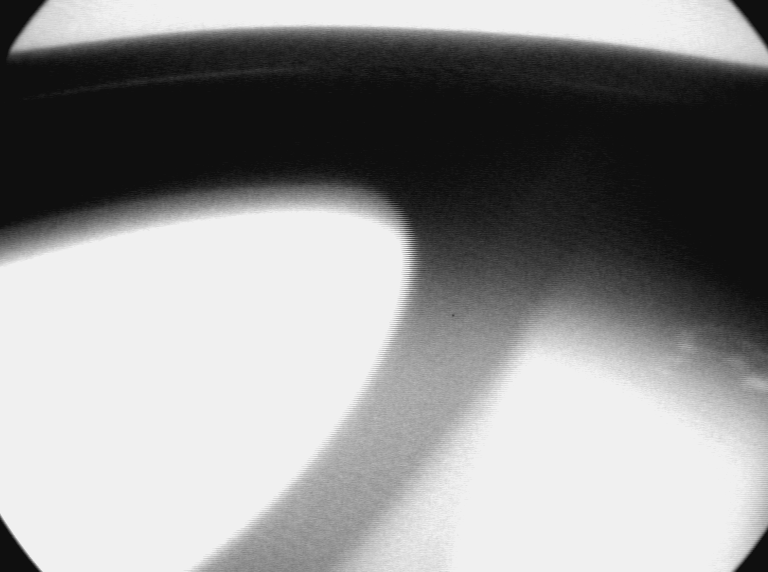defect: (743, 366, 768, 397)
